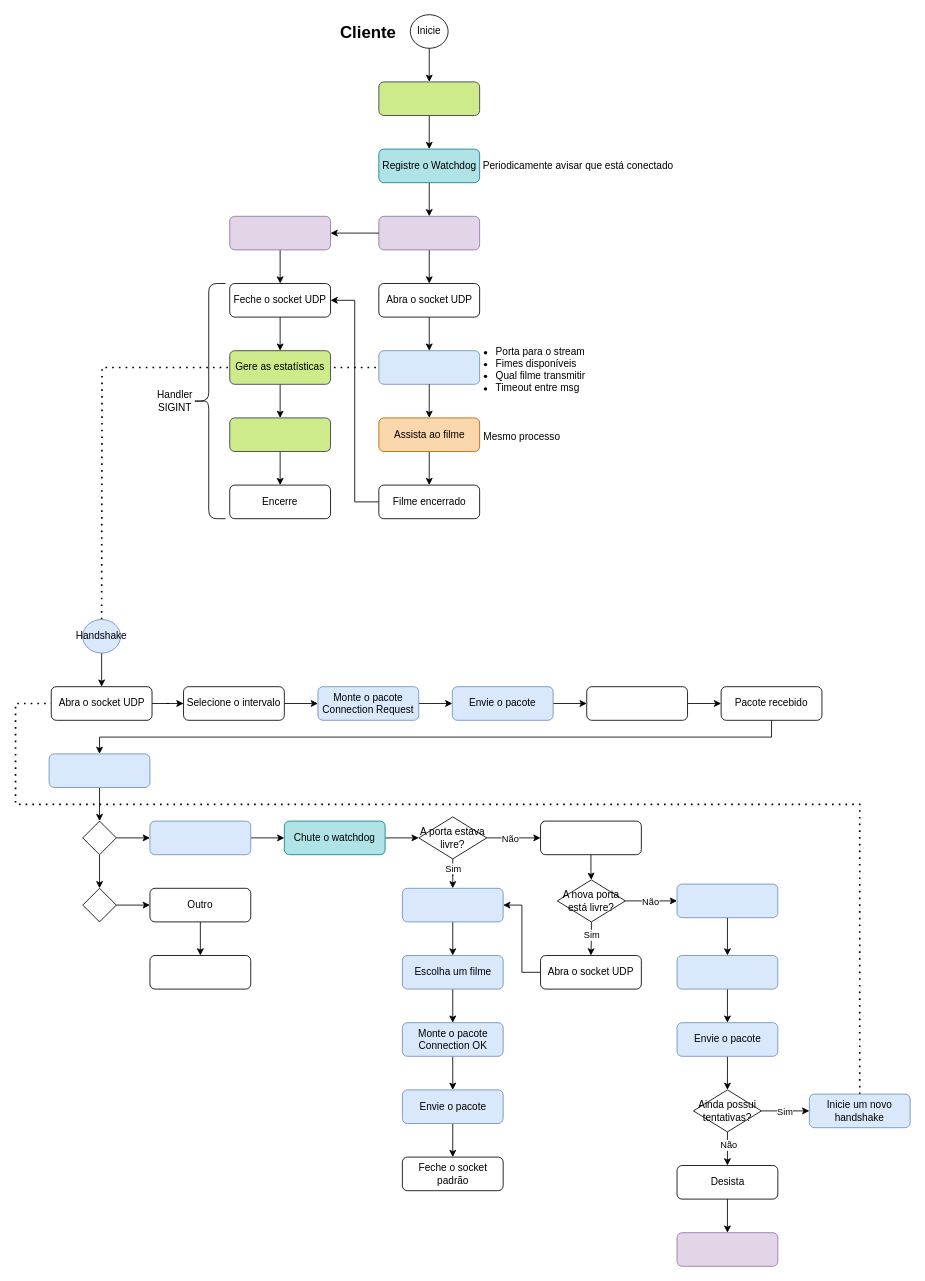
Some shapes in this 925 by 1281 pixel diagram are drawn without their labels. Here are the shapes that lost their labels. From the top down, the box of each, then its label:
(378, 81, 480, 116): Registre o Log Handler
(229, 215, 331, 250): SIGINT recebido
(378, 215, 480, 250): Registre o handler para SIGINT
(378, 350, 480, 384): Realize o handshake
(229, 417, 331, 452): Feche o log
(586, 686, 688, 720): Aguarde por um pacote
(48, 753, 150, 788): Identifique o tipo do pacote
(149, 820, 251, 855): Connection Received
(540, 820, 641, 855): Feche o socket
(402, 887, 503, 922): Conexão estabelecida
(676, 883, 778, 918): Não é possível se conectar
(149, 955, 251, 989): Descarte
(676, 955, 778, 989): Monte o pacote Connection NOK
(676, 1232, 778, 1266): Chame o Handler SIGINT
